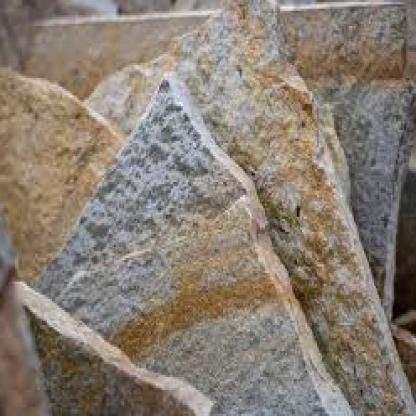Metamorphic_Quartize: (39, 65, 414, 414)
